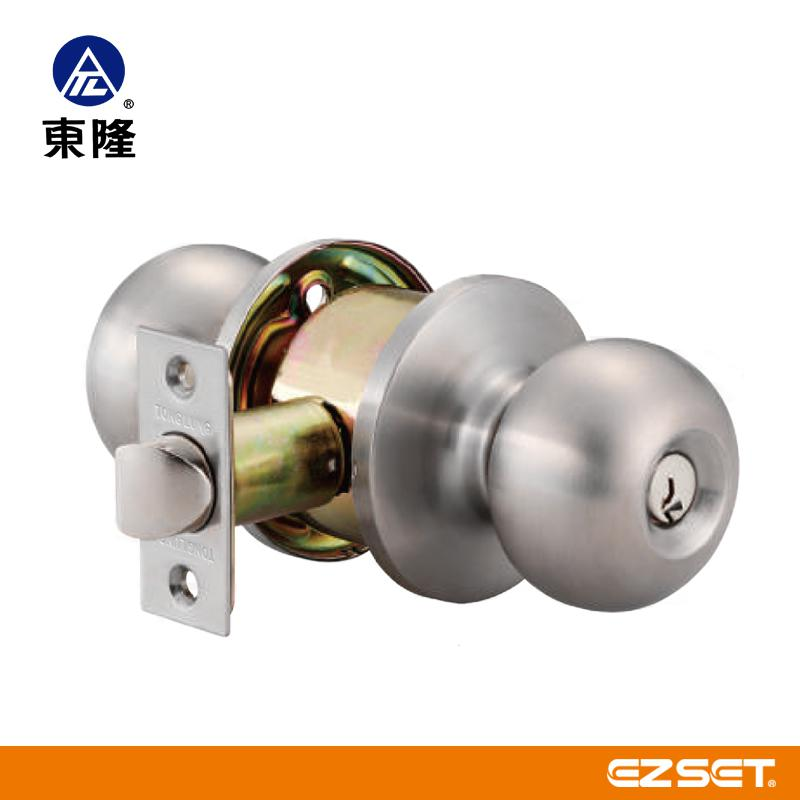doorhandle: (404, 284, 746, 627)
